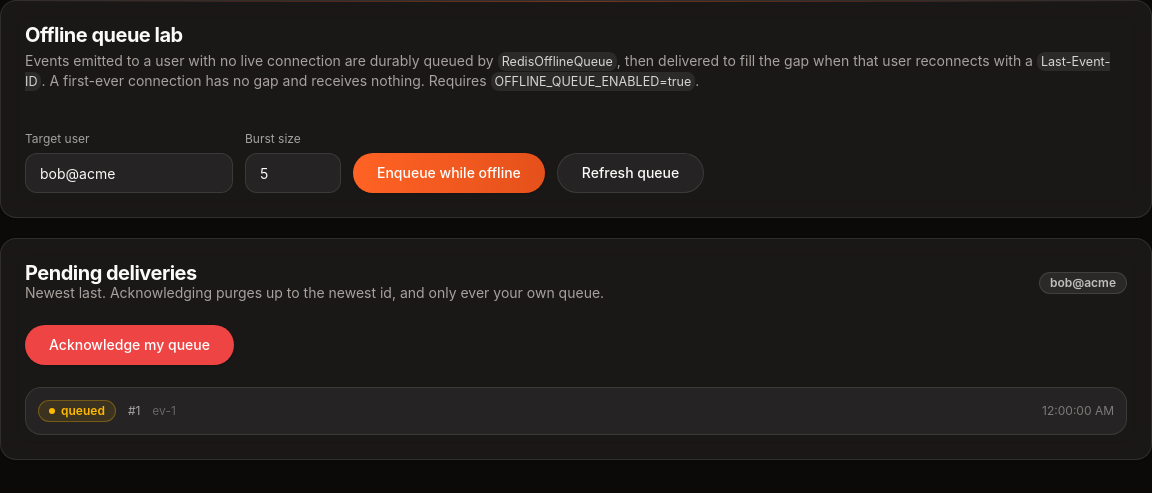
Test case: OfflineLabPage › reports a failed acknowledge
Expected: the text "#1" is shown, 128,403 -> 140,419
Click the button "Acknowledge my queue": (130, 345) 25,325 -> 234,365
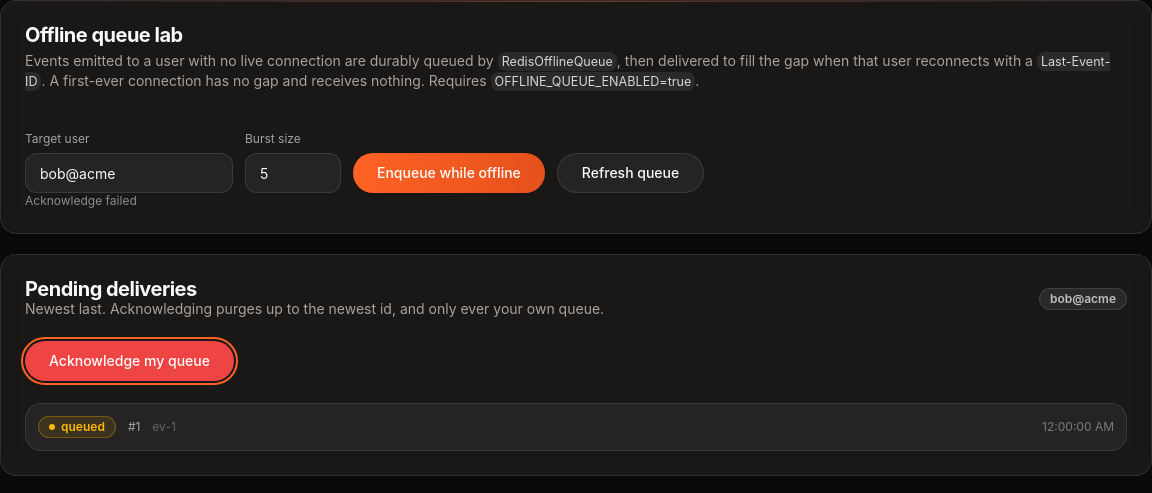
Now the text "Acknowledge failed" is shown, box 25,193 -> 137,208
